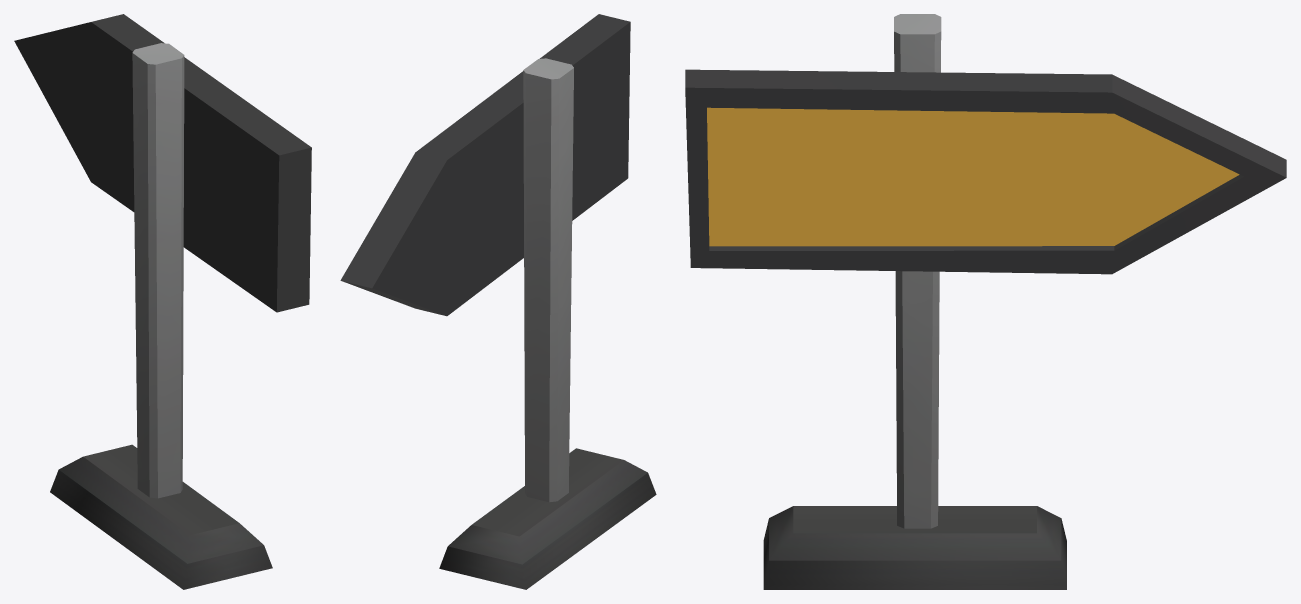
Rendered from LineCh_1_2.fbx.
3 renders of one model, left to right at view 1: azimuth 30°, elevation 25°; view 2: azimuth 150°, elevation 25°; view 3: azimuth 270°, elevation 25°, orthographic. The views are drawn at different scales.
Parts seen in each view (by area): view 1: LineCh_1_2; view 2: LineCh_1_2; view 3: LineCh_1_2.
Part boxes in pixels (left/top/right/bottom): LineCh_1_2: left=14, top=14, right=311, bottom=589; LineCh_1_2: left=340, top=14, right=656, bottom=589; LineCh_1_2: left=685, top=14, right=1286, bottom=589.
Bounding box in the file's own units: 21.86 × 106 × 107.
